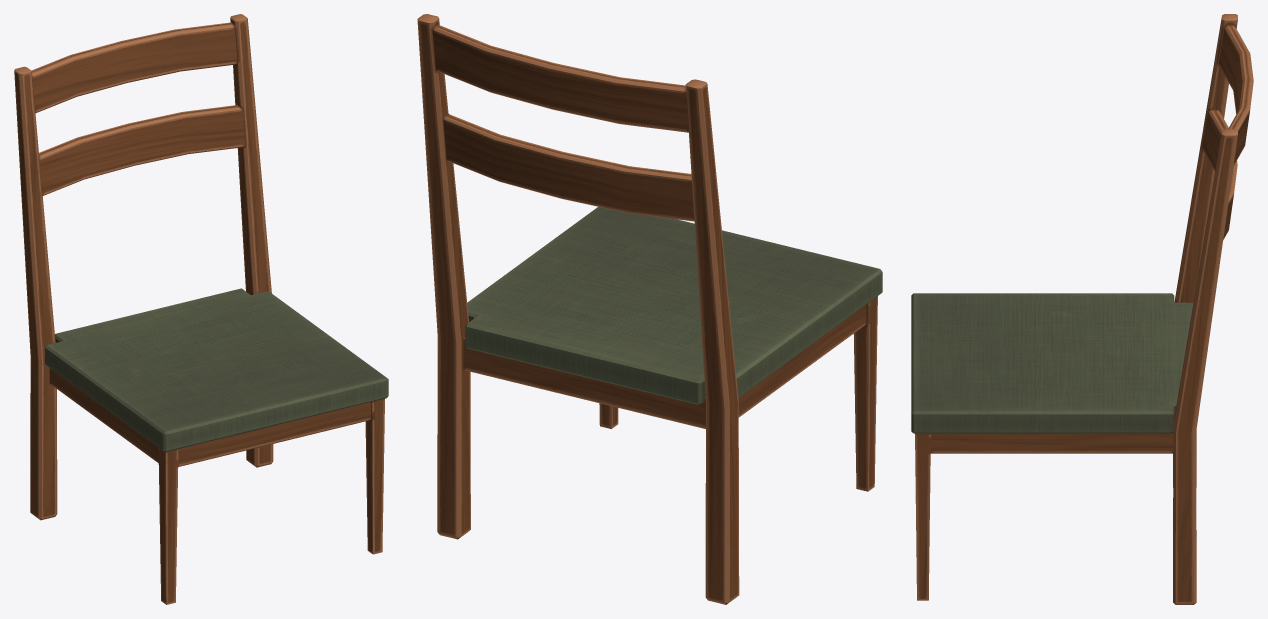
Rendered from M_Furniture_003.001.fbx.
3 renders of one model, left to right at view 1: azimuth 30°, elevation 25°; view 2: azimuth 150°, elevation 25°; view 3: azimuth 270°, elevation 25°, orthographic. The views are drawn at different scales.
Visible parts, largest first — view 1: M_Furniture_003.001; view 2: M_Furniture_003.001; view 3: M_Furniture_003.001.
Part boxes in pixels (<box>): M_Furniture_003.001: <box>14,14,388,604</box>; M_Furniture_003.001: <box>417,14,882,604</box>; M_Furniture_003.001: <box>911,14,1253,604</box>.
Bounding box in the file's own units: 78.1 × 137 × 90.46.
1 material, 1 textured.
